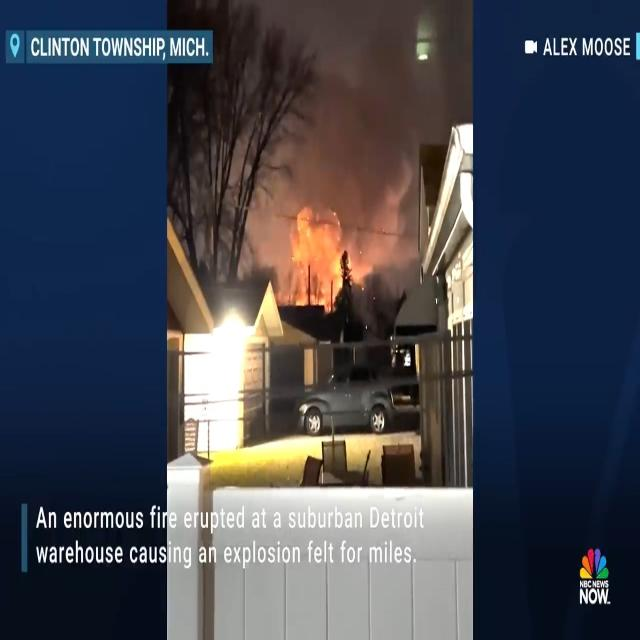fire: (286, 247, 342, 306)
